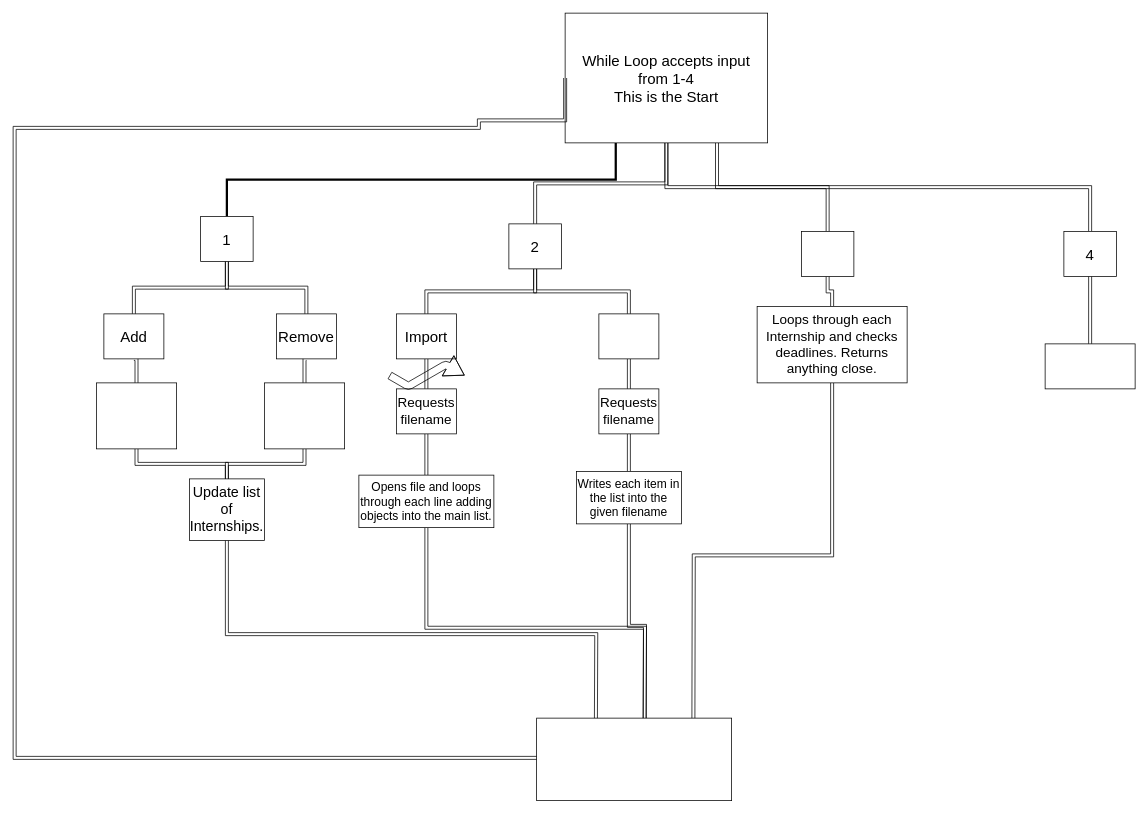
Some shapes in this 1148 by 814 pixel diagram are drawn without their labels. Here are the shapes that lost their labels. From the top down, the centre of each, then its label:
point (827, 253): 3(V2)
point (628, 336): Export
point (1089, 366): Save and quit Program
point (136, 415): Request information for fields.
point (304, 415): Request info to identify specific internship
point (634, 759): Returns to top of while loop.
